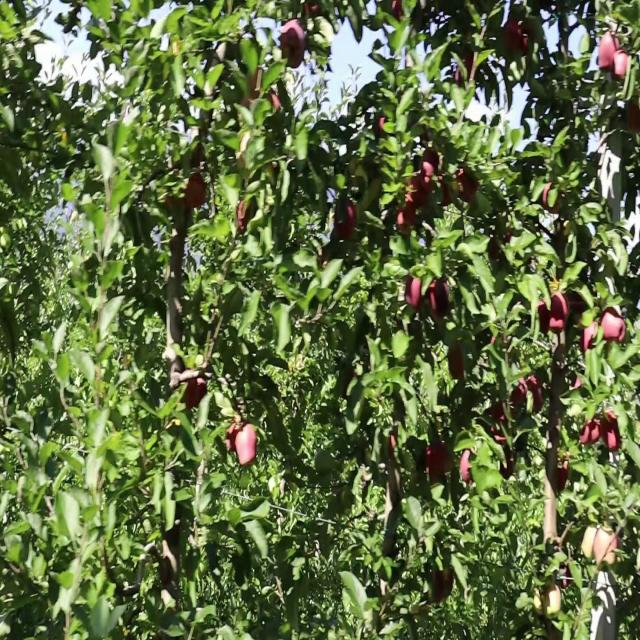apple: (240, 71, 280, 114), (280, 21, 308, 71), (600, 305, 627, 347), (428, 440, 455, 482), (596, 526, 621, 567), (240, 71, 267, 108), (428, 277, 451, 320), (236, 426, 258, 468), (548, 455, 569, 496), (420, 149, 440, 192), (184, 177, 208, 212), (552, 291, 571, 334), (604, 412, 623, 455), (600, 35, 621, 73), (456, 170, 479, 204), (336, 206, 357, 242), (404, 277, 424, 313), (436, 568, 456, 604), (492, 227, 512, 263), (396, 199, 416, 235), (500, 21, 521, 55), (188, 376, 208, 411), (456, 49, 476, 84), (408, 177, 429, 210), (544, 583, 562, 619), (228, 412, 243, 453), (448, 348, 466, 382), (528, 376, 544, 414), (612, 49, 629, 84), (400, 199, 417, 233), (460, 447, 475, 485), (544, 184, 562, 215), (580, 327, 599, 356), (489, 426, 510, 452), (512, 376, 528, 409), (488, 405, 507, 432), (164, 191, 187, 212), (584, 526, 597, 560), (236, 206, 251, 235), (628, 99, 640, 135), (500, 455, 516, 482), (588, 419, 602, 446), (440, 177, 452, 208), (376, 113, 389, 139), (540, 305, 551, 334), (520, 28, 531, 57), (392, 1, 405, 21), (580, 426, 591, 448), (304, 7, 322, 20), (536, 590, 544, 617), (392, 433, 398, 453)
